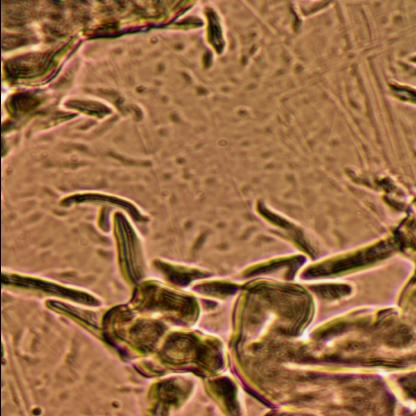Normal: (88, 240, 416, 416)
